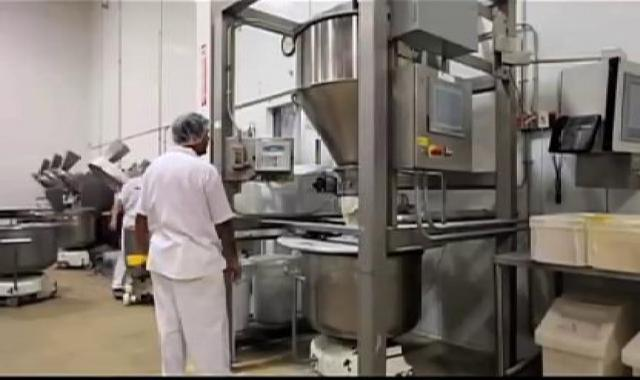hairnet: (172, 105, 217, 152)
